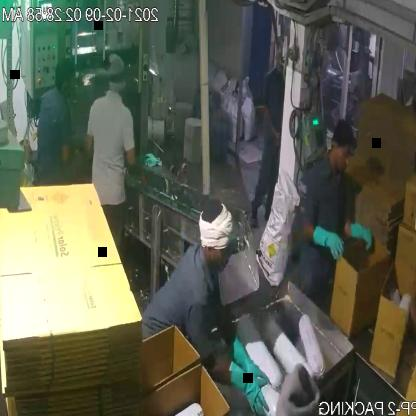glove: (226, 333, 271, 397), (226, 368, 267, 416), (307, 224, 347, 264), (346, 215, 377, 255)
no_glove: (257, 100, 280, 156), (126, 138, 148, 192), (407, 290, 416, 350)
